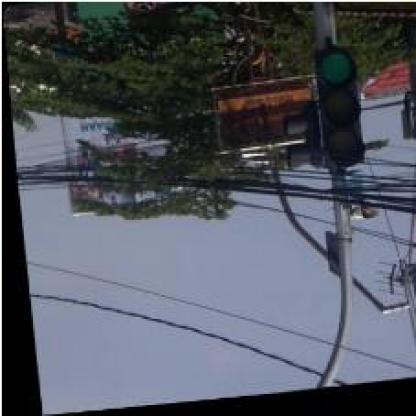green: (310, 51, 364, 172)
